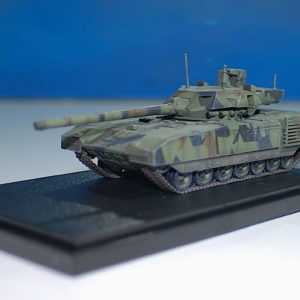Battle Tank: (31, 67, 300, 198)
